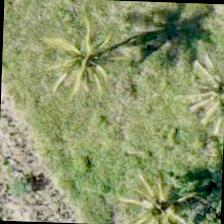Kelapa_Sawit: (41, 32, 134, 126), (105, 164, 199, 223), (176, 53, 223, 147)
